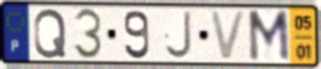3: (71, 6, 104, 62)
9: (122, 9, 151, 60)
J: (163, 10, 194, 61)
M: (246, 8, 292, 64)
Q: (32, 7, 68, 60)
V: (208, 9, 249, 63)
